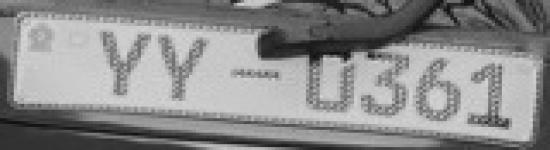-: (222, 62, 283, 84)
0: (303, 40, 361, 116)
1: (461, 57, 516, 135)
3: (362, 47, 412, 121)
6: (412, 52, 463, 126)
Y: (157, 31, 215, 108), (99, 25, 154, 99)
